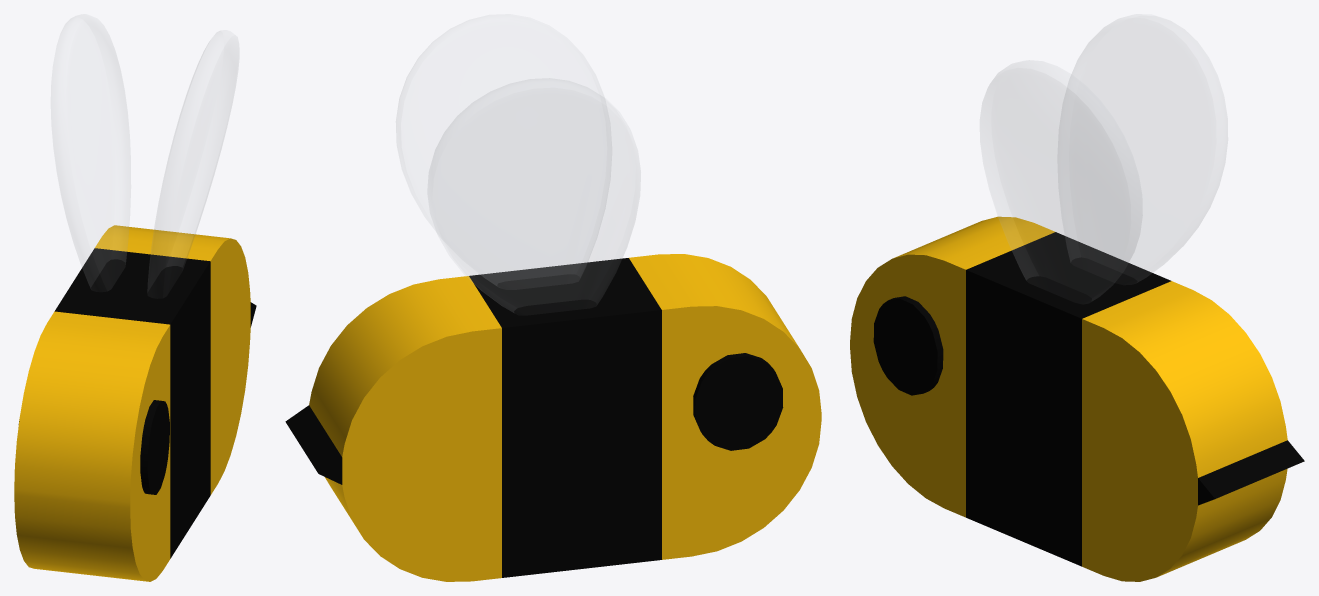
Rendered from honeybee.fbx.
3 views of the same model, side by side, from view 1: azimuth 30°, elevation 25°; view 2: azimuth 150°, elevation 25°; view 3: azimuth 270°, elevation 25° (orthographic). The views are drawn at different scales.
Visible parts, largest first — view 1: Cube.137; view 2: Cube.137; view 3: Cube.137.
Boxes of the visible parts, <box> form: Cube.137: <box>14,14,256,581</box>; Cube.137: <box>285,14,821,581</box>; Cube.137: <box>850,14,1304,581</box>.
Size of the model in its own units: 169 by 204 by 169.
Materials: 2 (1 with a texture image).
